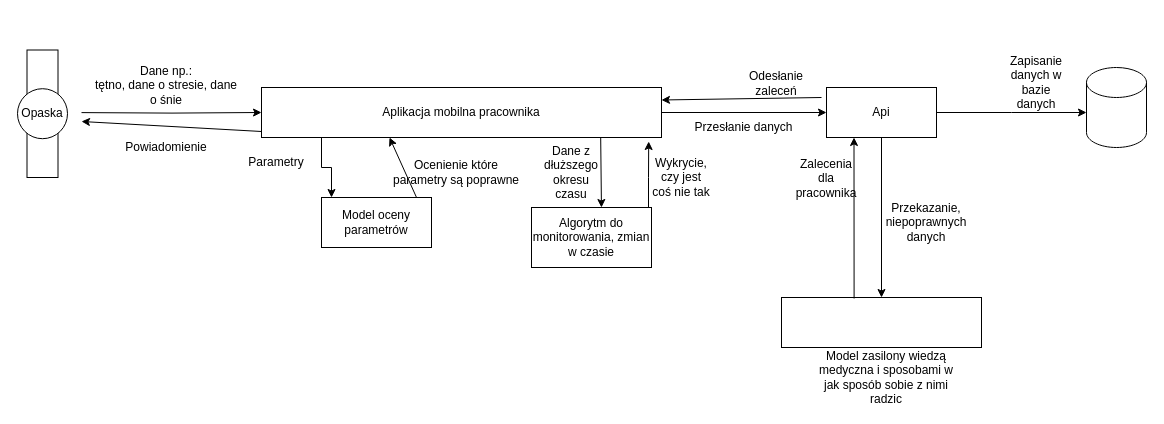
This 1164x424 diagram has some shape labels left out. Each missing label, with the centre of its shape:
Baza danych: [1116,107]
Sztuczna Inteligencja: [881,322]
